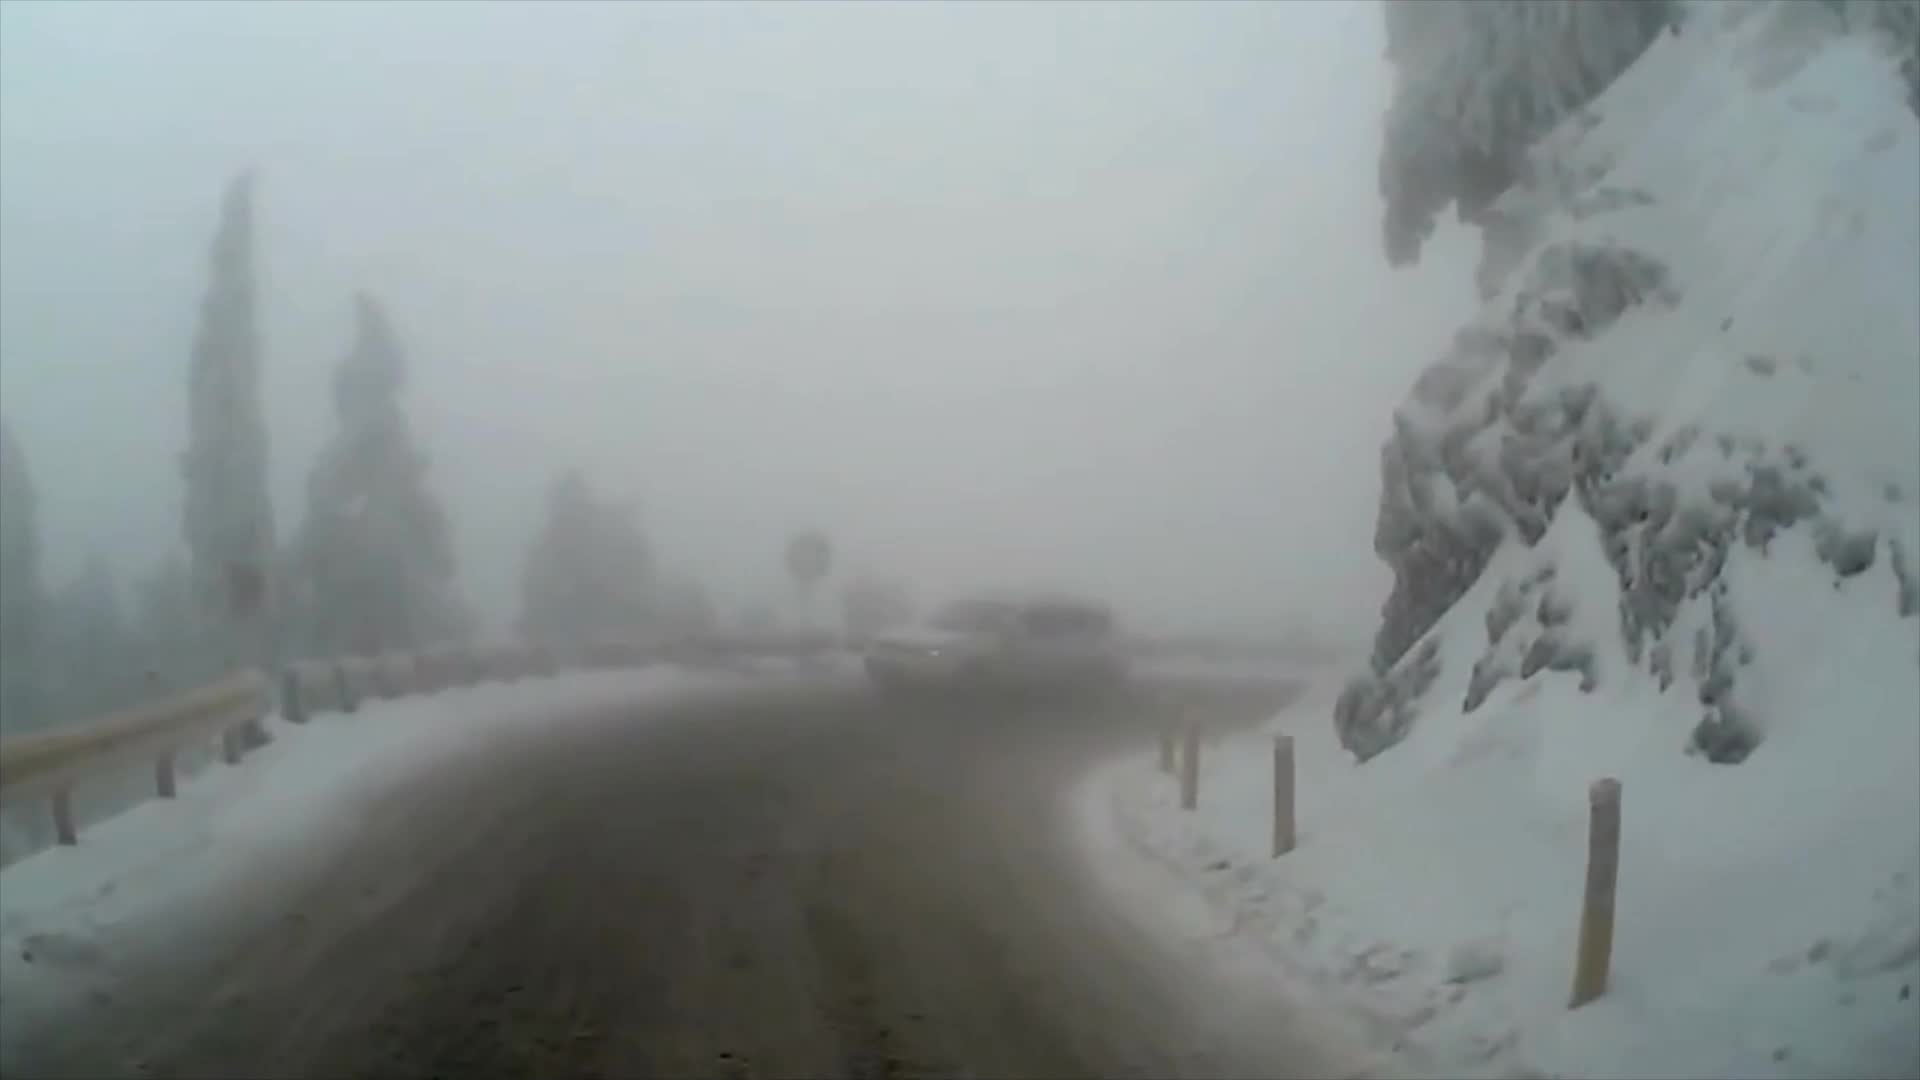vehicle: (856, 588, 1127, 715)
